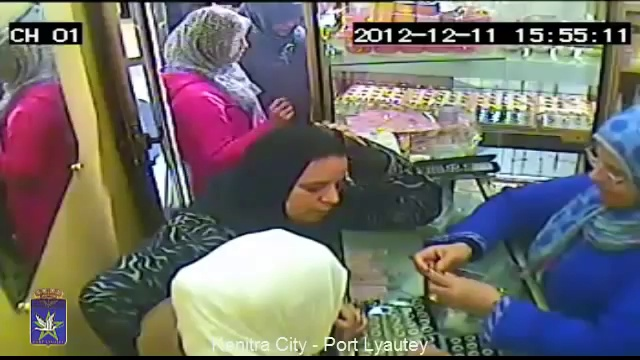face: (286, 170, 344, 226), (583, 139, 627, 211)
